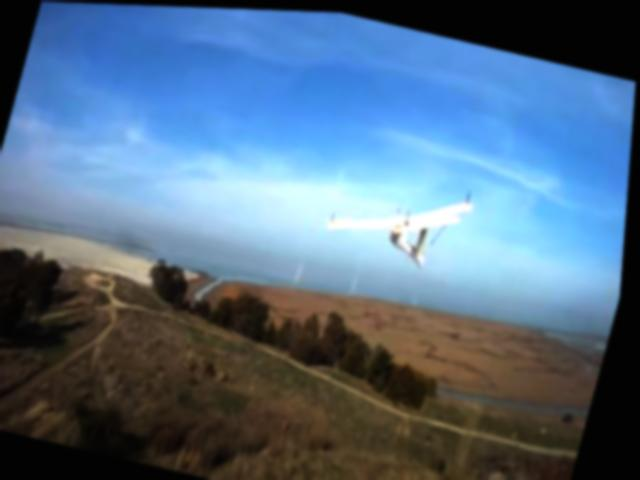uav: (323, 162, 480, 273)
